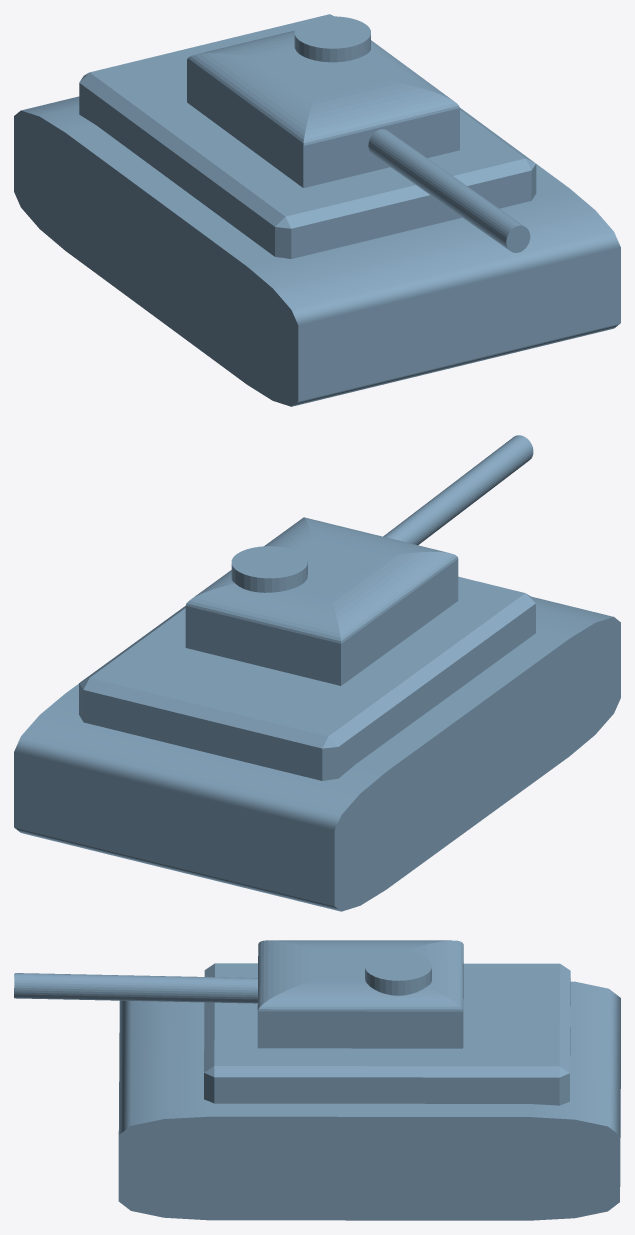
File: tank-model.fbx
3 renders of one model, top to bottom at view 1: azimuth 30°, elevation 25°; view 2: azimuth 150°, elevation 25°; view 3: azimuth 270°, elevation 25°, orthographic. The views are drawn at different scales.
Visible parts, largest first — view 1: Cube.001, Cube, Cube.002, Cube.003, Cylinder.001; view 2: Cube.001, Cube, Cube.002, Cube.003, Cylinder.001; view 3: Cube.001, Cube, Cube.002, Cube.003, Cylinder.001.
Part boxes in pixels (left/top/right/bottom): Cube.001: left=14, top=96, right=620, bottom=406; Cube: left=79, top=14, right=536, bottom=258; Cube.002: left=187, top=30, right=459, bottom=187; Cube.003: left=368, top=129, right=530, bottom=252; Cylinder.001: left=294, top=16, right=370, bottom=62; Cube.001: left=14, top=597, right=620, bottom=911; Cube: left=79, top=576, right=535, bottom=780; Cube.002: left=185, top=517, right=458, bottom=685; Cube.003: left=383, top=435, right=533, bottom=544; Cylinder.001: left=231, top=546, right=307, bottom=592; Cube.001: left=118, top=981, right=620, bottom=1220; Cube: left=204, top=963, right=570, bottom=1105; Cube.002: left=257, top=940, right=463, bottom=1048; Cube.003: left=14, top=973, right=257, bottom=1003; Cylinder.001: left=365, top=952, right=431, bottom=995.
Bounding box in the file's own units: 974 × 1805 × 651.
